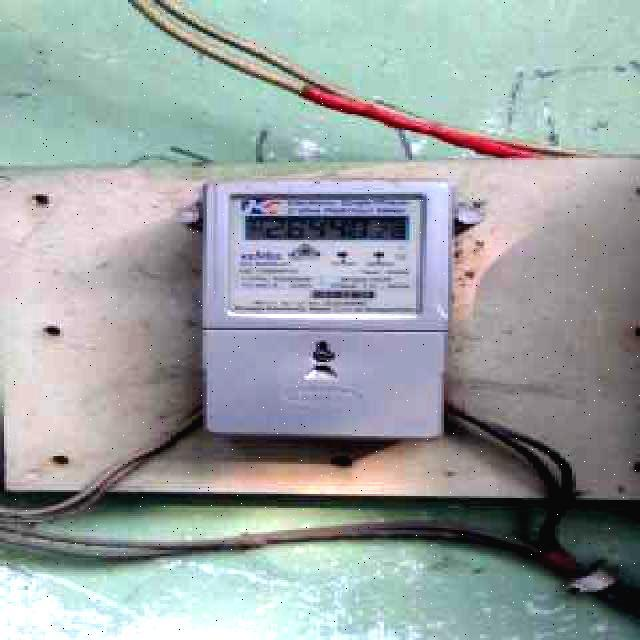LCD: (245, 210, 415, 245)
